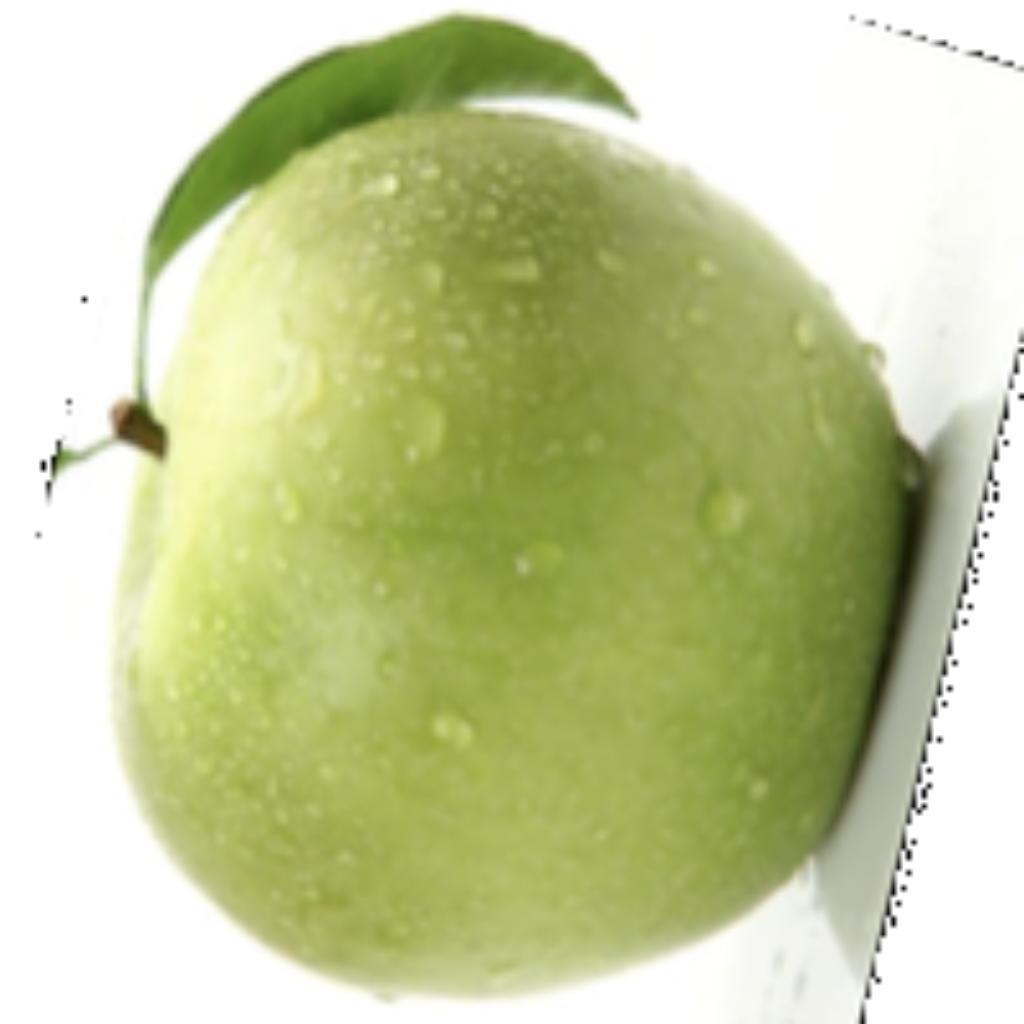apple: (36, 5, 1019, 1004)
